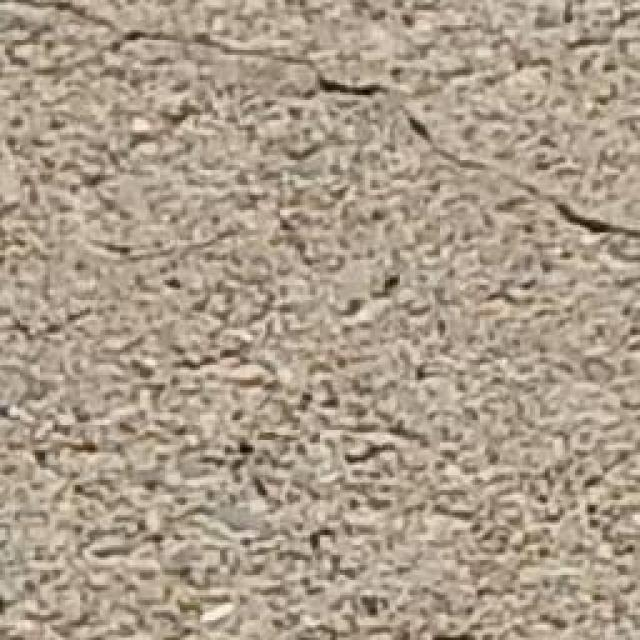concrete-crack: (2, 0, 637, 251)
